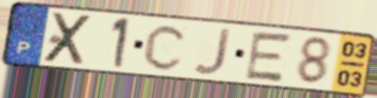1: (108, 16, 134, 71)
8: (294, 35, 334, 86)
C: (141, 23, 190, 73)
E: (241, 30, 295, 85)
J: (191, 27, 235, 77)
X: (40, 11, 96, 66)
